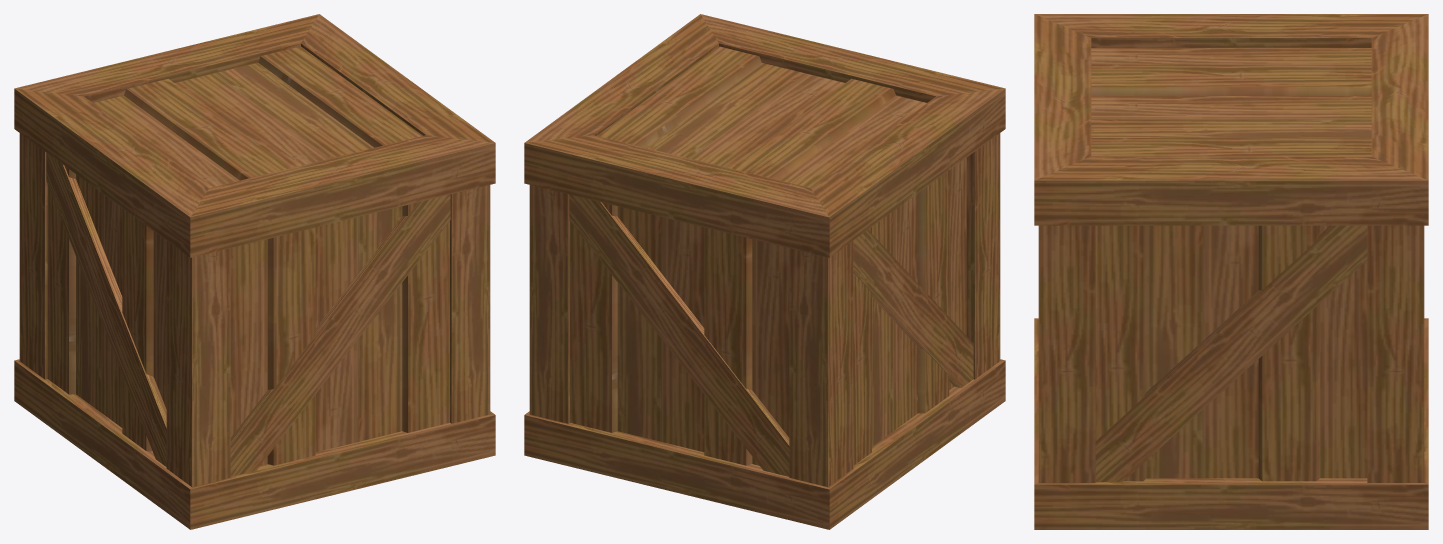
Rendered from med-caixote.gltf.
3 renders of one model, left to right at view 1: azimuth 30°, elevation 25°; view 2: azimuth 150°, elevation 25°; view 3: azimuth 270°, elevation 25°, orthographic. The views are drawn at different scales.
Parts seen in each view (by area): view 1: Prop_Crate; view 2: Prop_Crate; view 3: Prop_Crate.
Boxes of the visible parts, x1,y1,x2,y2 form: Prop_Crate: (14,14,495,529); Prop_Crate: (524,14,1005,529); Prop_Crate: (1034,14,1428,529).
Size of the model in its own units: 0.5418 by 0.5298 by 0.5418.
Materials: 1 (1 with a texture image).
